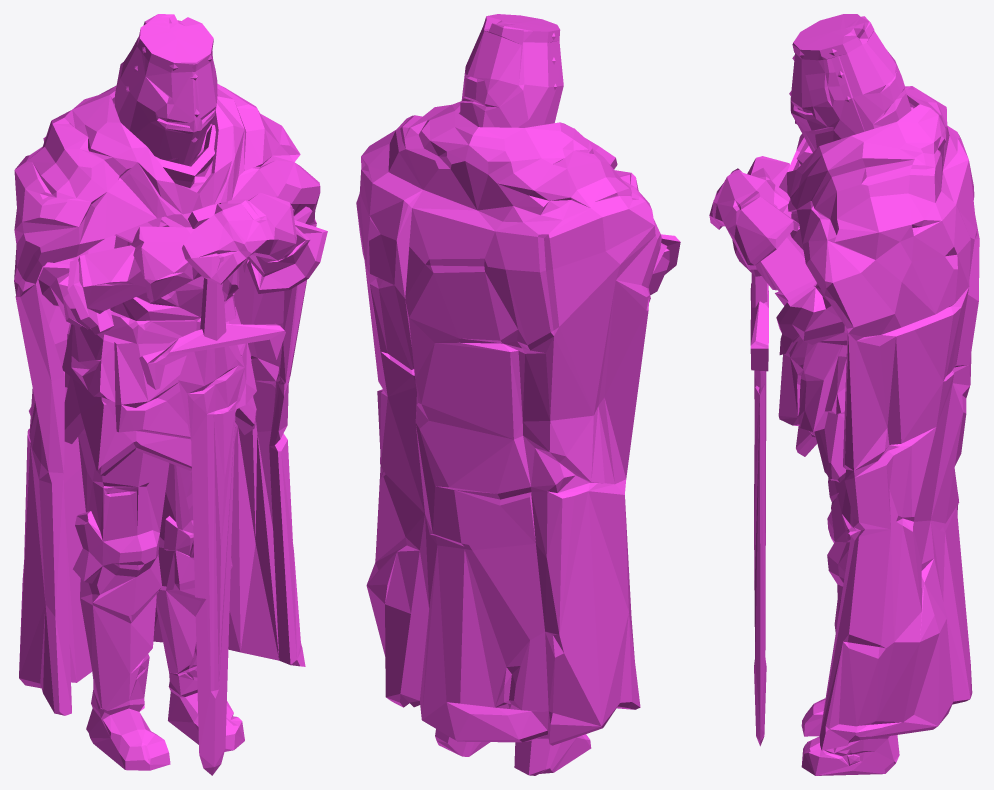
Rendered from SM_Statue_Giant_Knight_Fantasy.fbx.
3 renders of one model, left to right at view 1: azimuth 30°, elevation 25°; view 2: azimuth 150°, elevation 25°; view 3: azimuth 270°, elevation 25°, orthographic.
Parts seen in each view (by area): view 1: SM_Statue_Giant_Knight_Fantasy; view 2: SM_Statue_Giant_Knight_Fantasy; view 3: SM_Statue_Giant_Knight_Fantasy.
Boxes of the visible parts, box(x1,y1,x2,y2) form: SM_Statue_Giant_Knight_Fantasy: box(14, 14, 327, 775); SM_Statue_Giant_Knight_Fantasy: box(356, 14, 680, 775); SM_Statue_Giant_Knight_Fantasy: box(709, 14, 979, 775).
Size of the model in its own units: 12.51 by 29.63 by 10.01.
